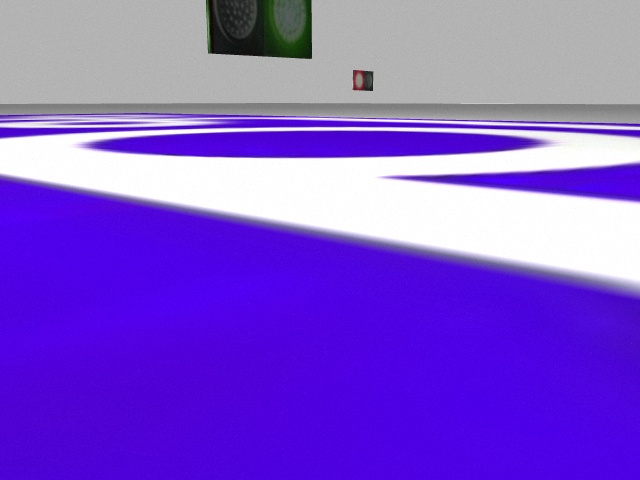green: (264, 1, 314, 56)
